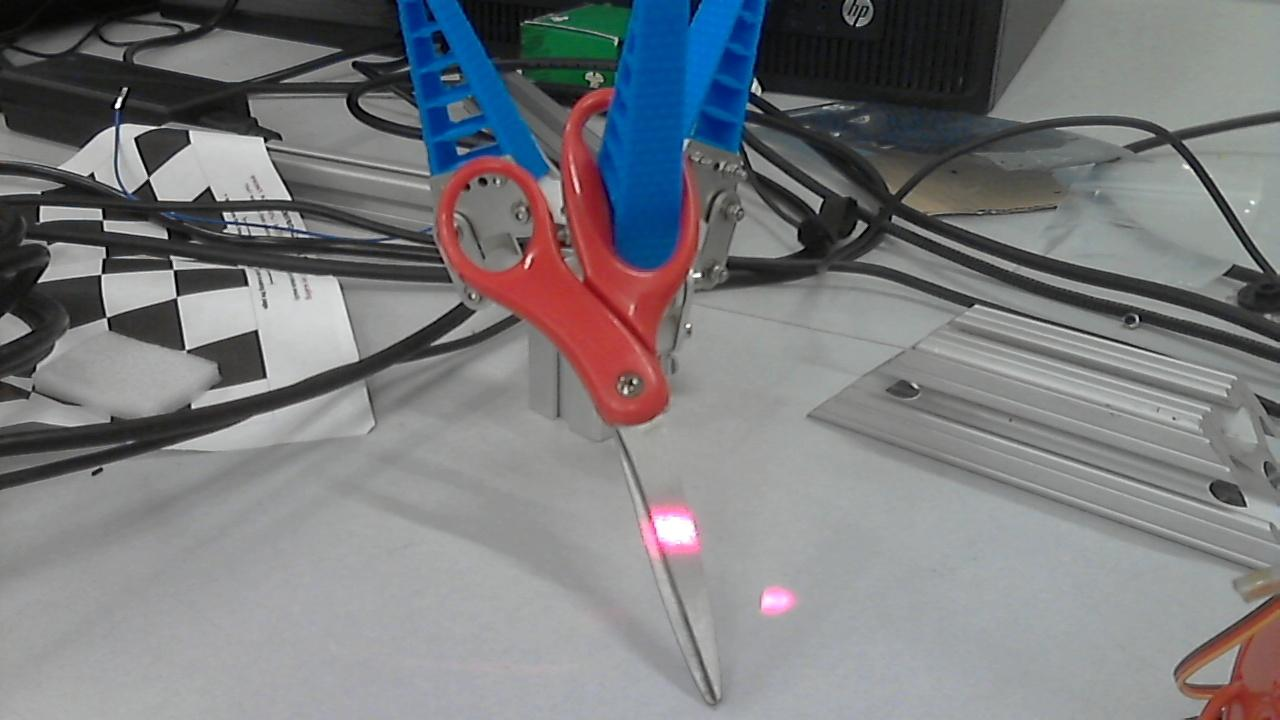Object scissors - Material metal - Pdfname tYexGlkiIXWc: (621, 471, 711, 566)
